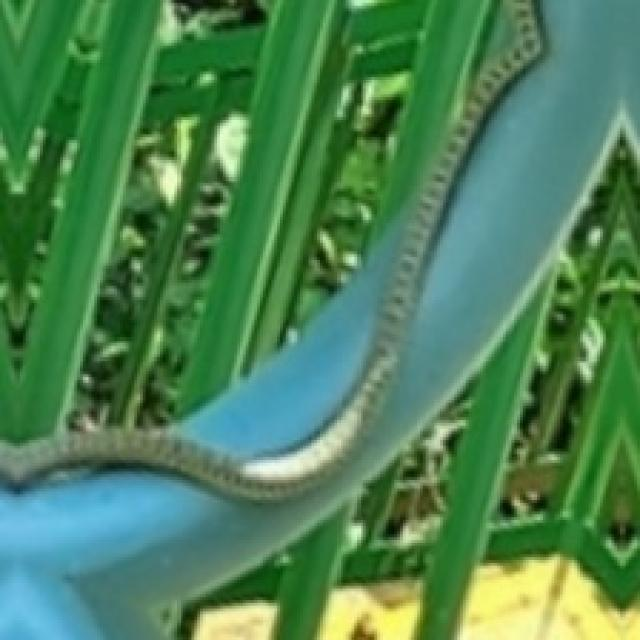paradise tree snake: (0, 0, 637, 637), (177, 211, 409, 457)
